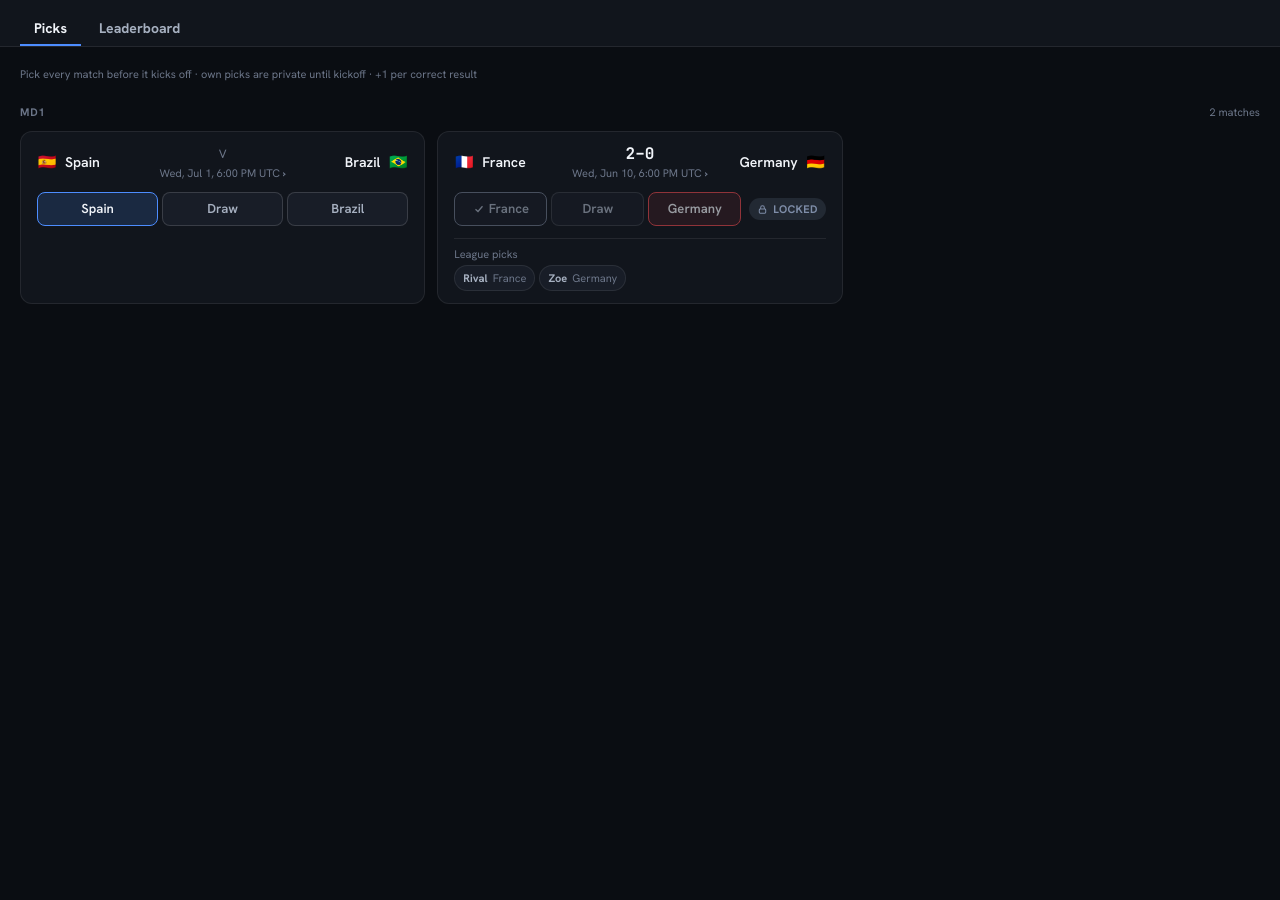
it: leaderboard → manager picks drill-in (T4) › closes on the close button and on Escape
The image size is (1280, 900).
Click the tab "Leaderboard": x=140, y=29 [85,12,194,46]
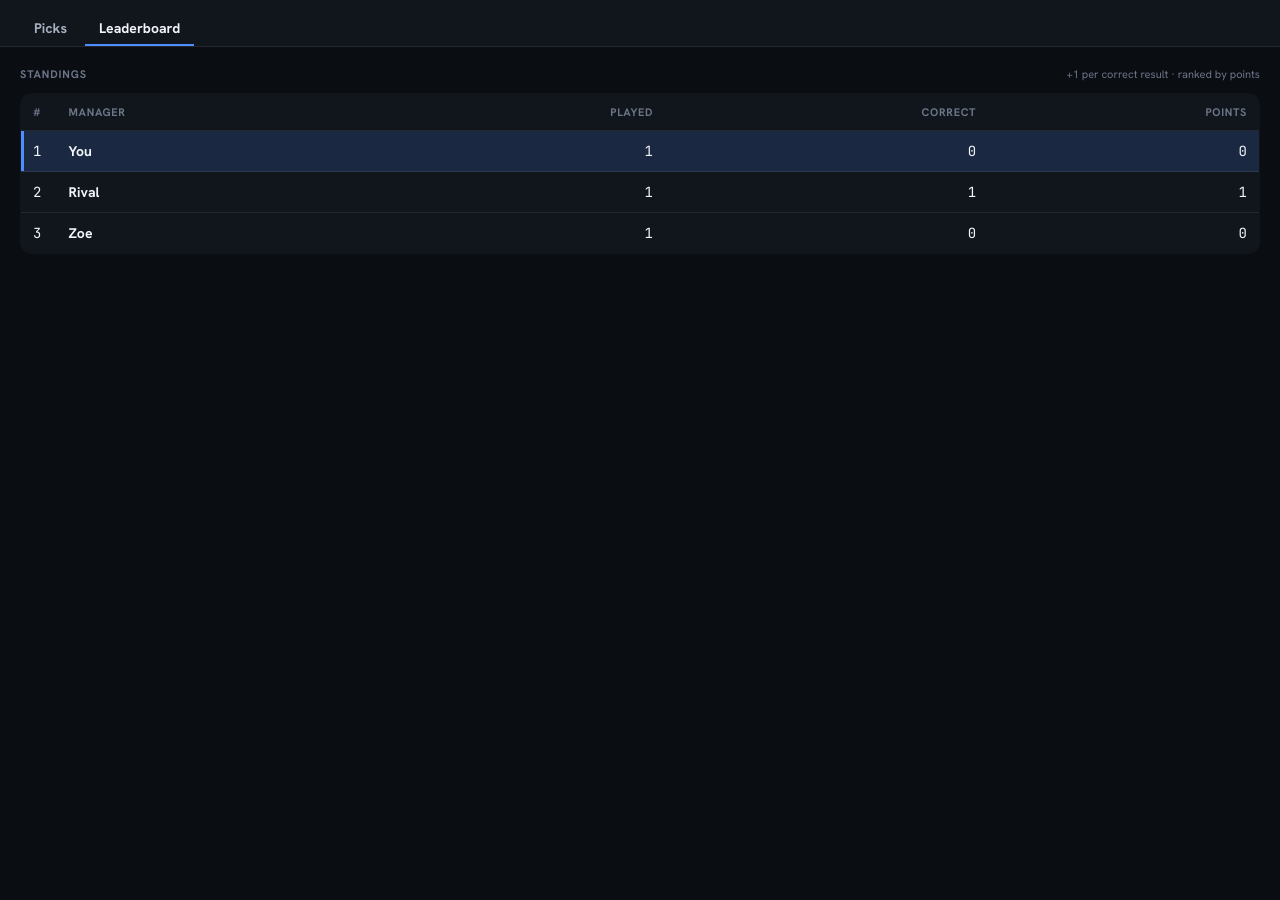
Click the button "Rival": x=84, y=192 [68,182,100,202]
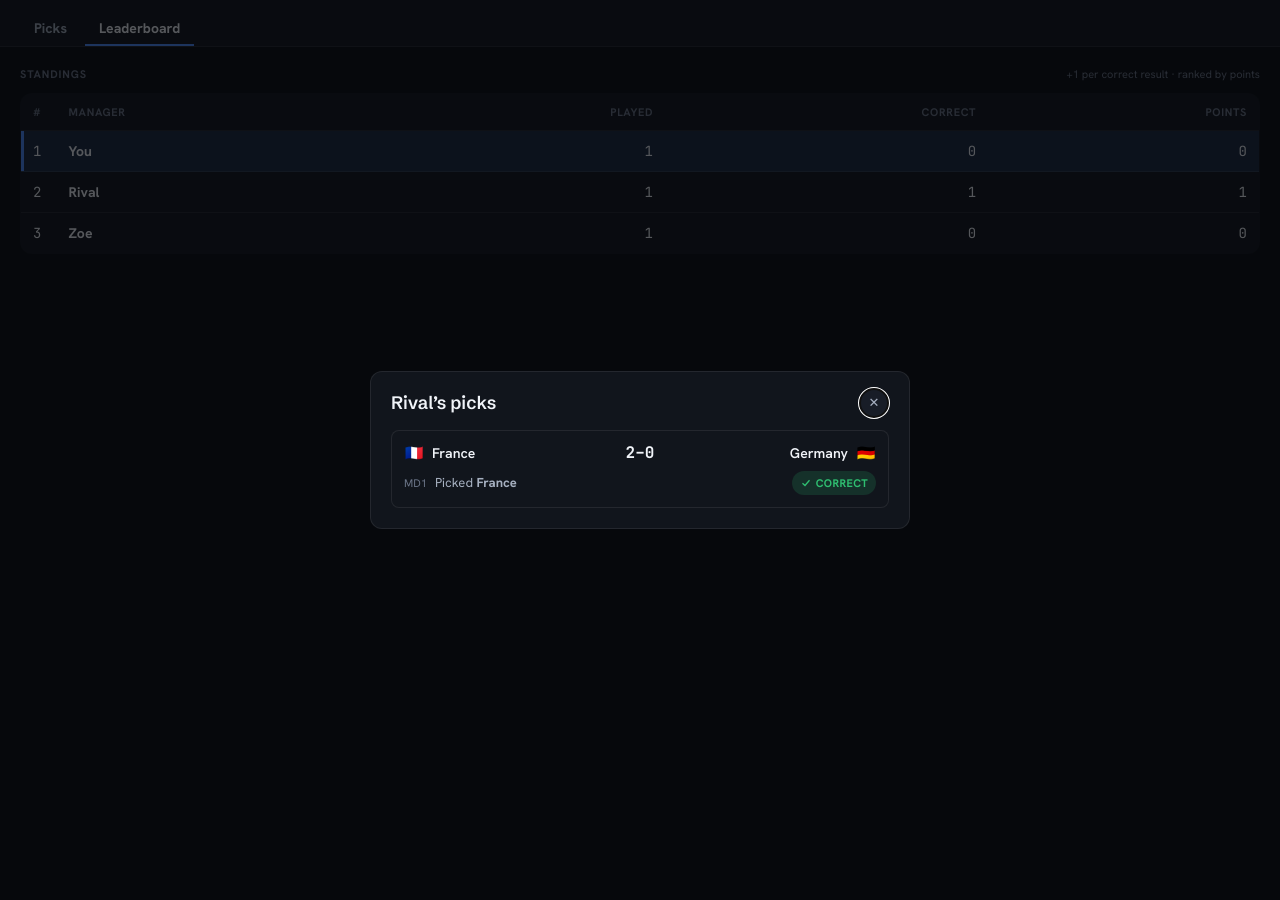
Click the button named "Close": x=874, y=403 [859,388,889,418]
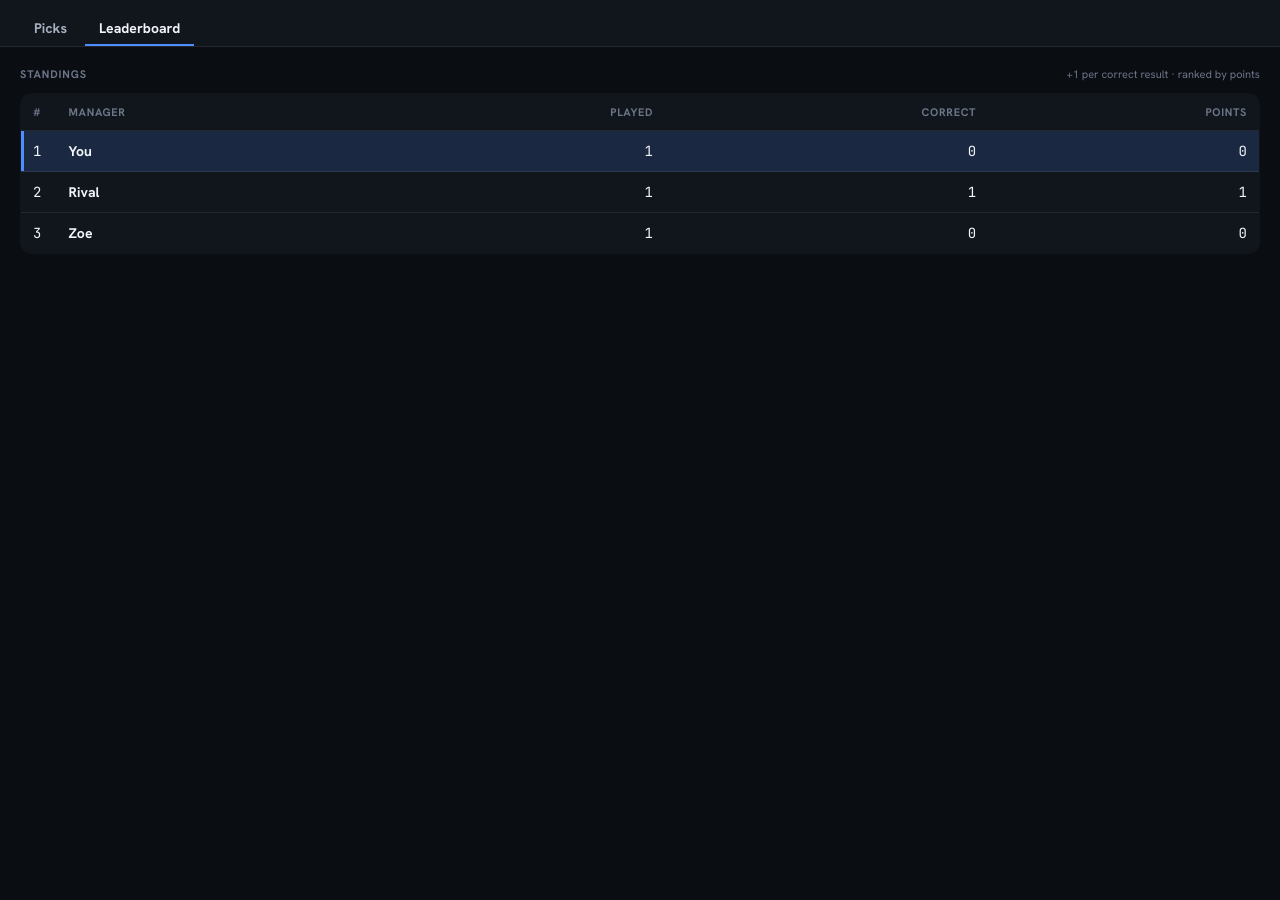
Now the dialog is gone
Click the button "Rival": x=84, y=192 [68,182,100,202]
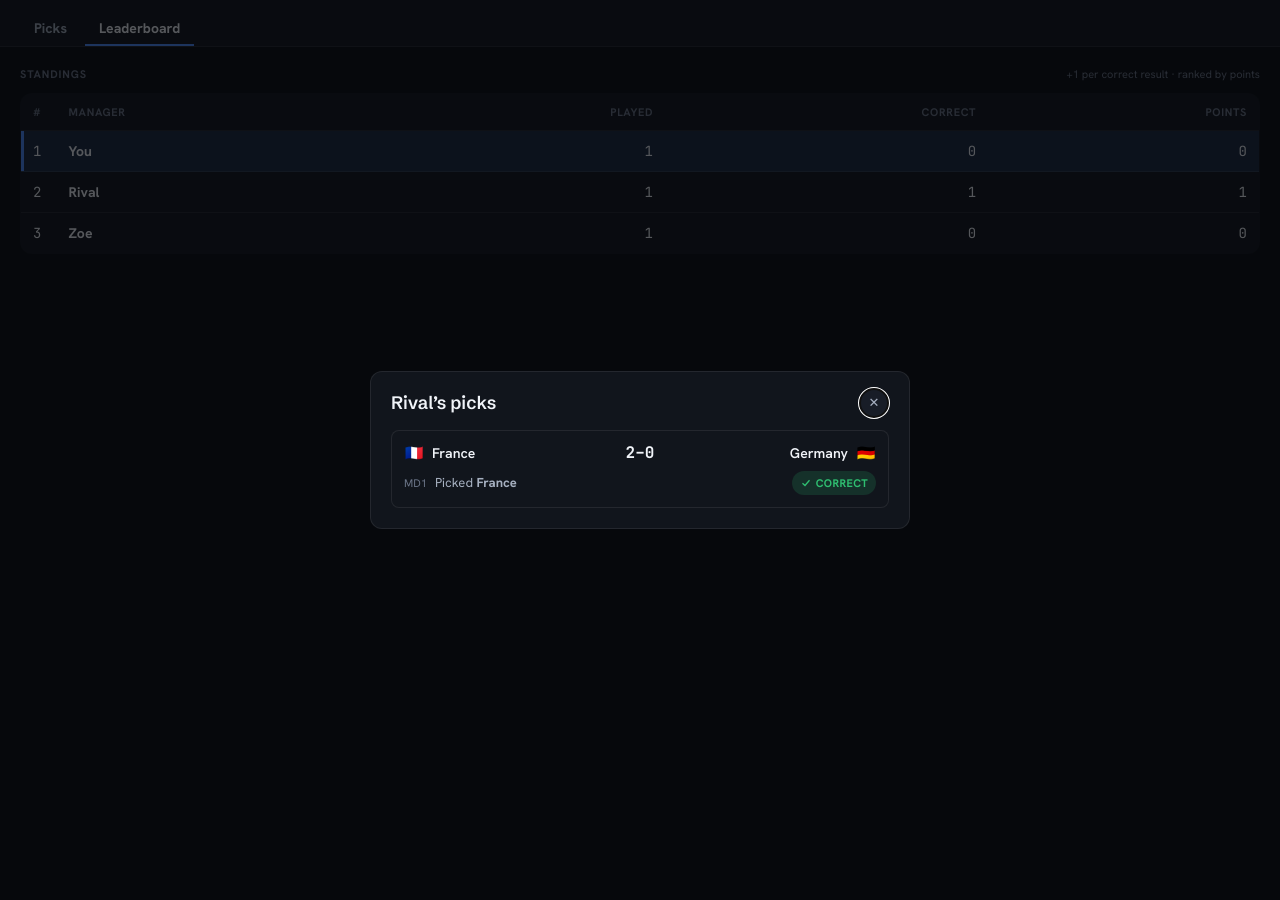
Press Escape
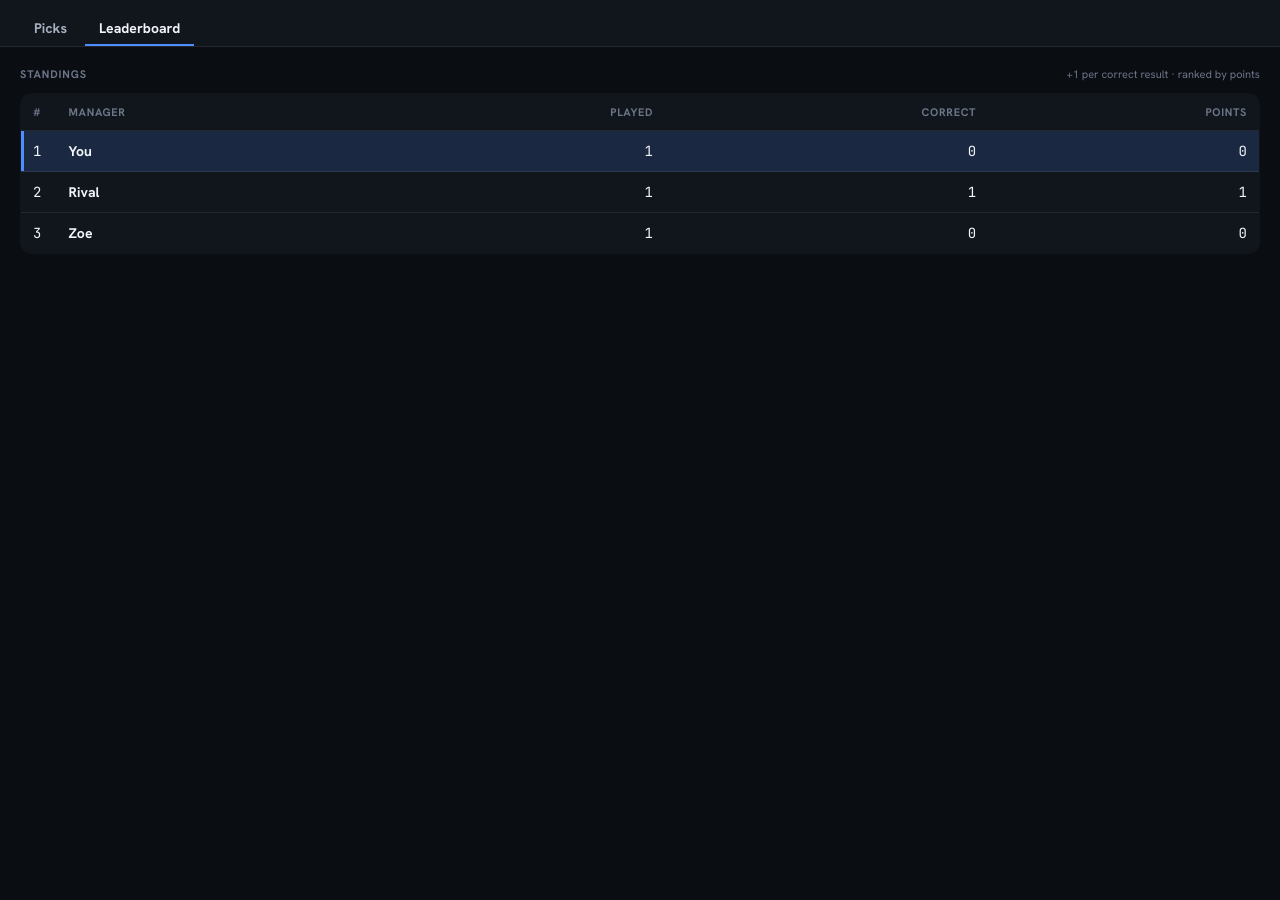
Now the dialog is gone
